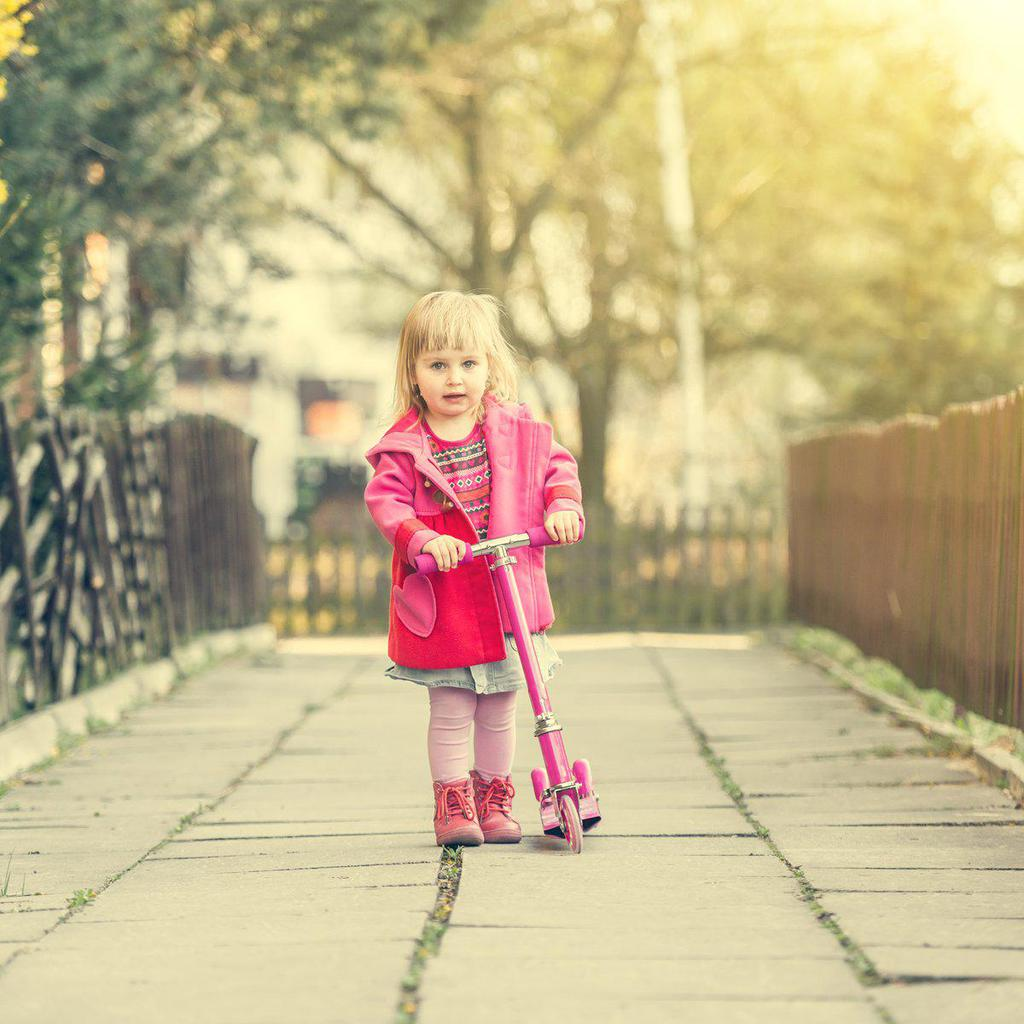child: (337, 286, 584, 853)
